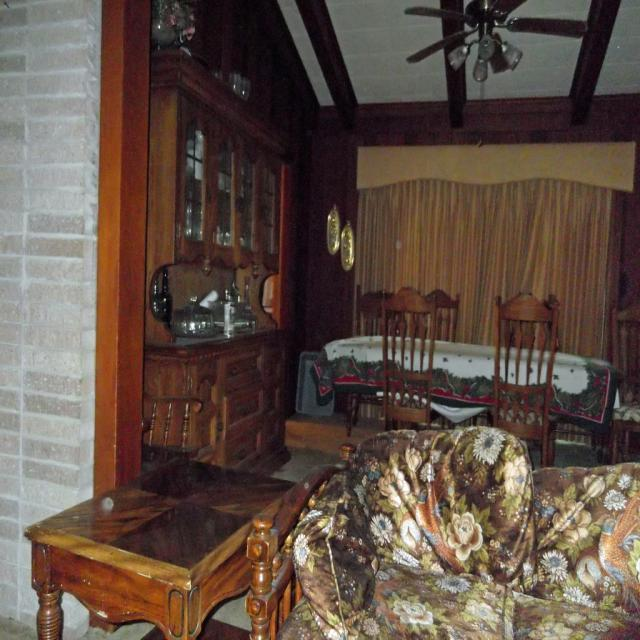bulb_off: (497, 39, 518, 68), (478, 34, 499, 62), (449, 46, 471, 66), (473, 58, 489, 82)
fan_off: (400, 0, 595, 72)
